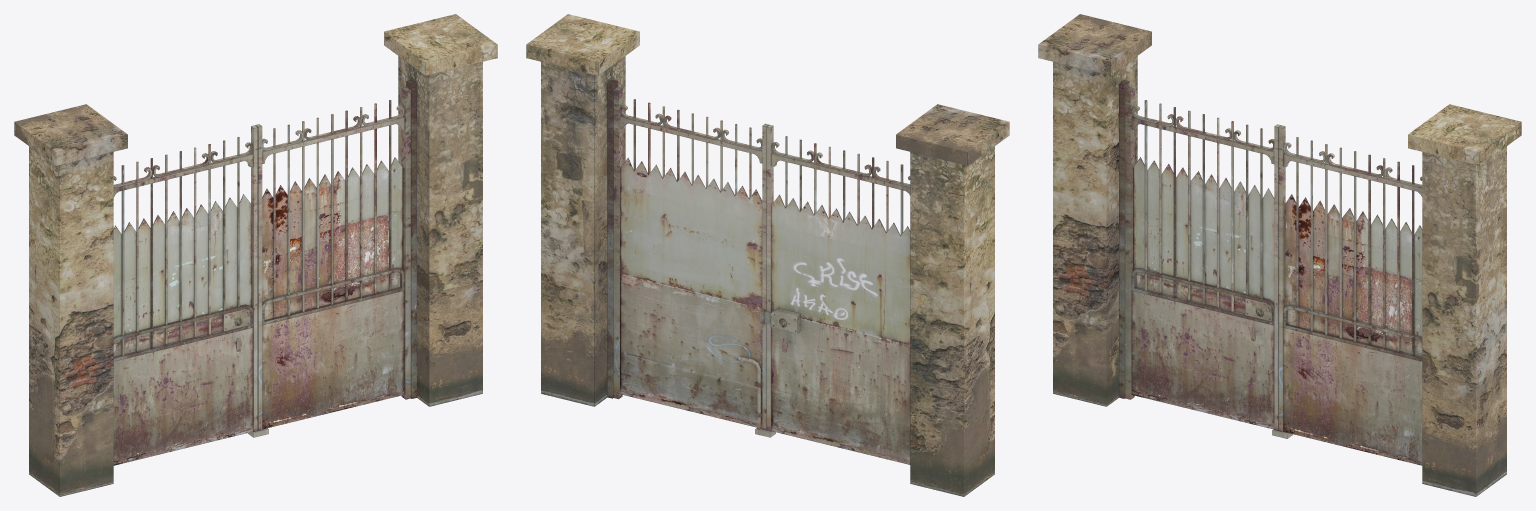
The model's file is iron_gate_dark.glb.
The picture shows the model from 3 angles, left to right: view 1: azimuth 30°, elevation 25°; view 2: azimuth 150°, elevation 25°; view 3: azimuth 330°, elevation 25°; orthographic projection.
Visible parts, largest first — view 1: Iron_Gate_T_Iron_Gate_0; view 2: Iron_Gate_T_Iron_Gate_0; view 3: Iron_Gate_T_Iron_Gate_0.
Part boxes in pixels (x1,y1,x2,y2): Iron_Gate_T_Iron_Gate_0: [14, 14, 497, 496]; Iron_Gate_T_Iron_Gate_0: [526, 14, 1009, 496]; Iron_Gate_T_Iron_Gate_0: [1038, 14, 1521, 496].
Bounding box in the file's own units: 5.76 × 4.38 × 0.9404.
Materials: 1 (1 with a texture image).
